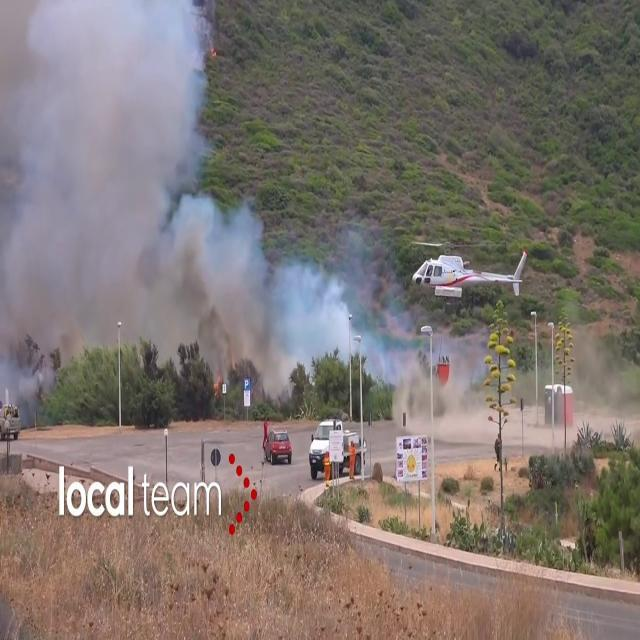Smoke: (0, 0, 210, 343), (160, 184, 361, 378)
